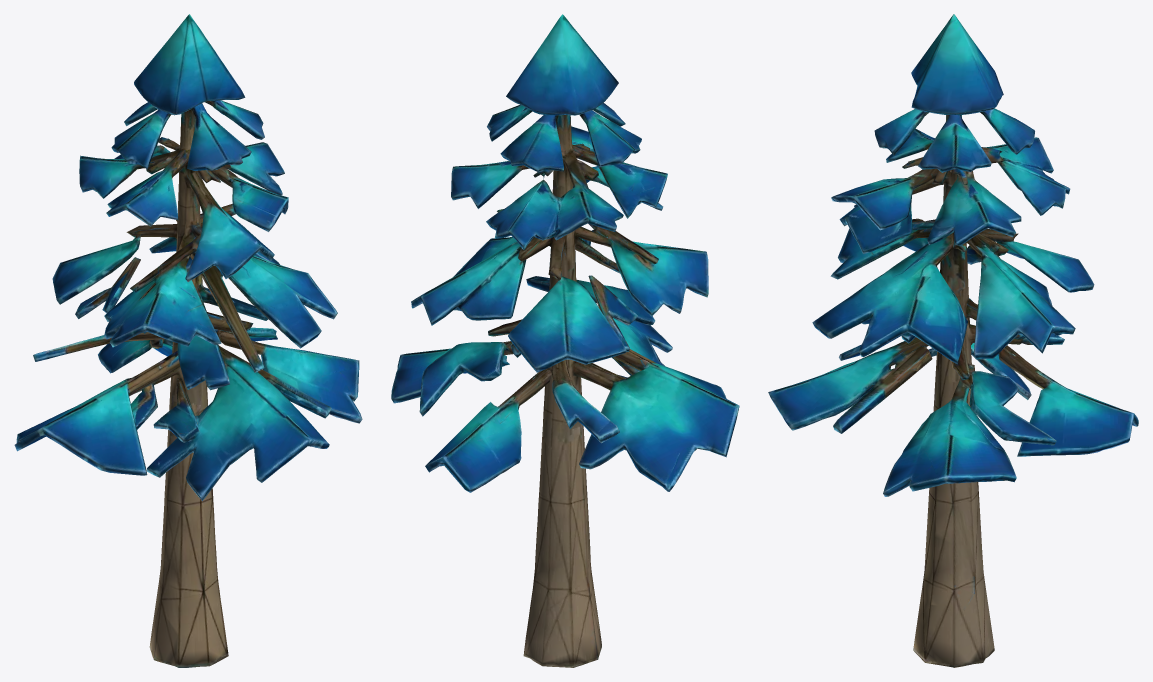
The model's file is tree_pine_tall.glb.
3 views of the same model, side by side, from view 1: azimuth 30°, elevation 25°; view 2: azimuth 150°, elevation 25°; view 3: azimuth 270°, elevation 25° (orthographic).
Visible parts, largest first — view 1: Mesh1.0; view 2: Mesh1.0; view 3: Mesh1.0.
Boxes of the visible parts, <box> form: Mesh1.0: <box>14,14,362,667</box>; Mesh1.0: <box>391,14,739,667</box>; Mesh1.0: <box>768,14,1138,667</box>.
Bounding box in the file's own units: 1.05 × 1.91 × 1.01.
1 material, 1 textured.
